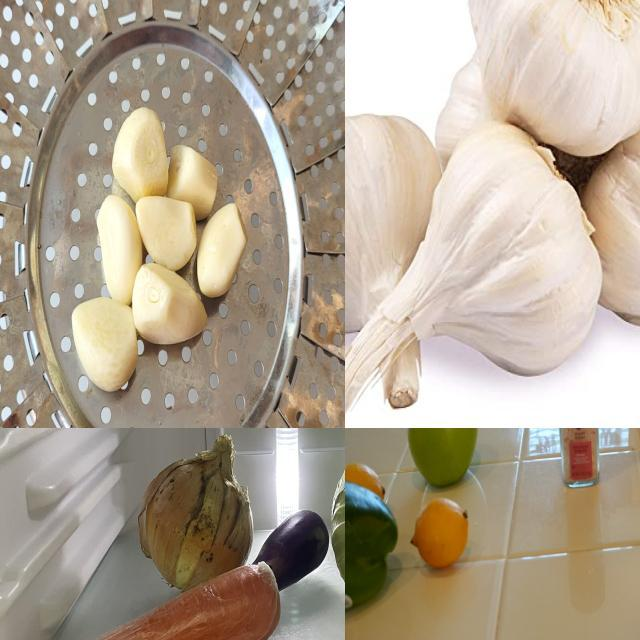bell_pepper: (346, 483, 401, 610)
carrot: (58, 561, 279, 640)
eggplant: (255, 508, 331, 601)
garlic: (346, 123, 600, 420), (70, 107, 249, 403), (346, 110, 450, 413), (466, 1, 640, 158), (586, 76, 640, 348)
onion: (142, 434, 256, 592)
